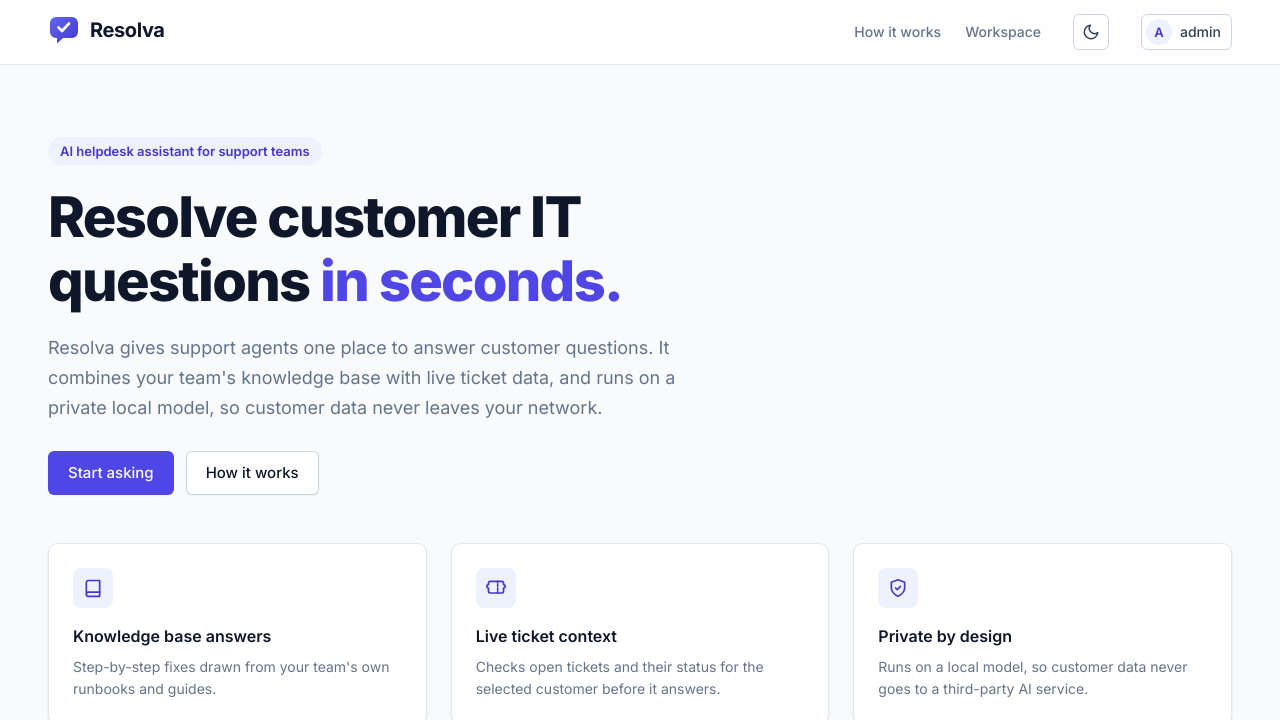
App › shows the signed-in user with a sign-out link
Step 1. Click the text "admin" → (1200, 32), box [1180,22,1221,42]
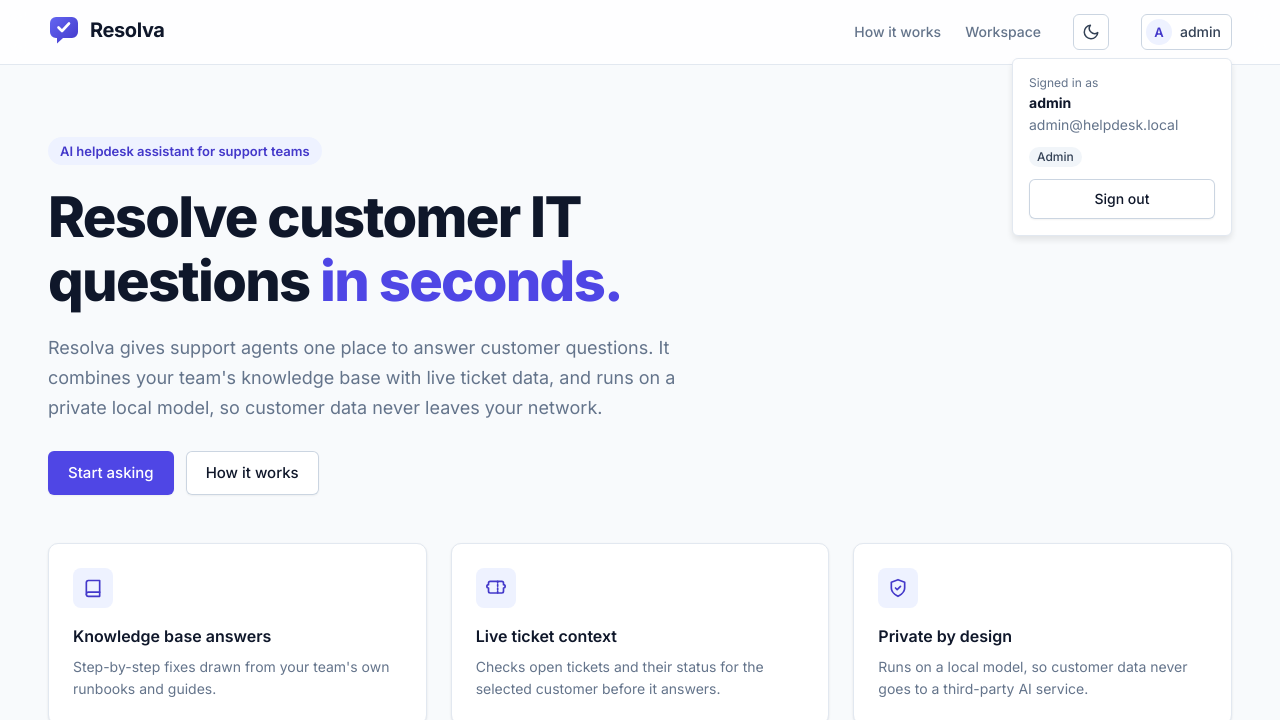
expect the text "admin@helpdesk.local" is shown: met, box [1029,116,1178,133]
expect the list item "Admin" is shown: met, box [1029,147,1082,167]
